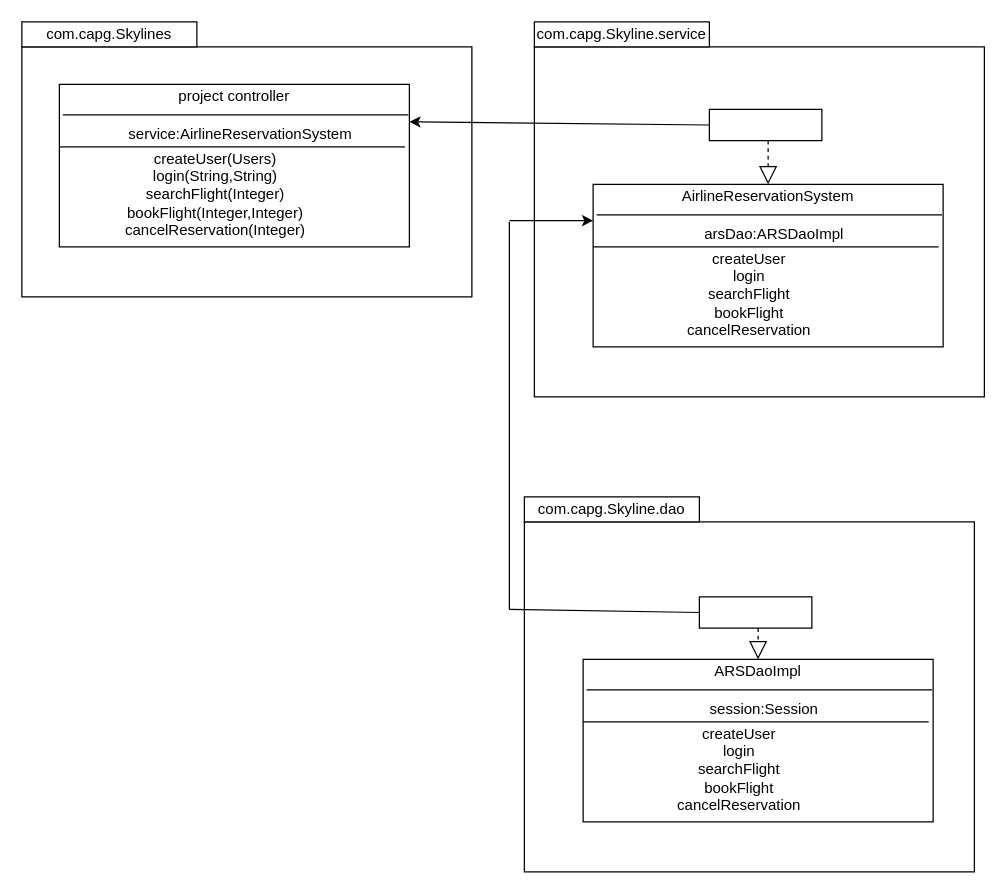
This 1006x894 diagram has some shape labels left out. The shapes that lost their labels are listed below. From the top down, each one's centre as x and y in pixels, then its label:
At (765,124): "<Interface> ARSService".
At (755,612): "<Interface> ARSDao".
